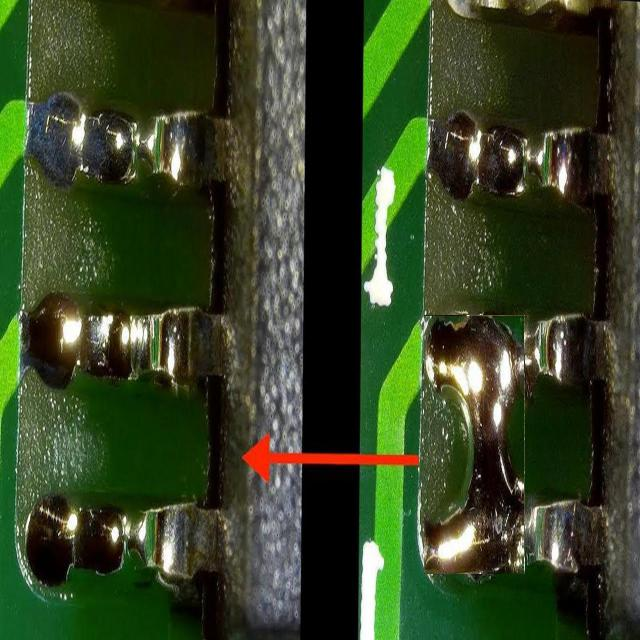Short_circuit: (425, 315, 523, 574)
